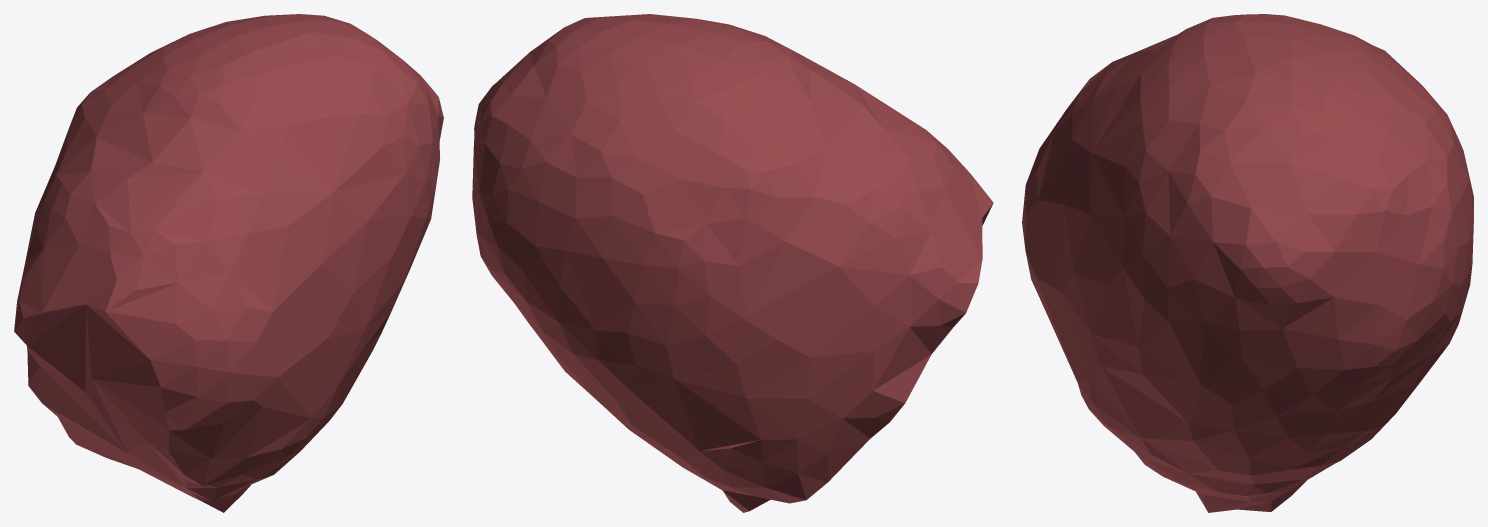
The model's file is Model_10467_LH__Abducens_nucleus_(6N).obj.
3 views of the same model, side by side, from view 1: azimuth 30°, elevation 25°; view 2: azimuth 150°, elevation 25°; view 3: azimuth 270°, elevation 25° (orthographic). The views are drawn at different scales.
Bounding box in the file's own units: 1.13 × 1.08 × 0.8772.
